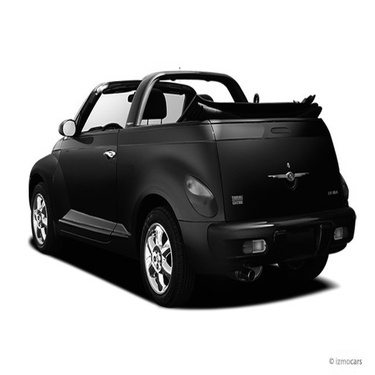car: (17, 59, 359, 306)
